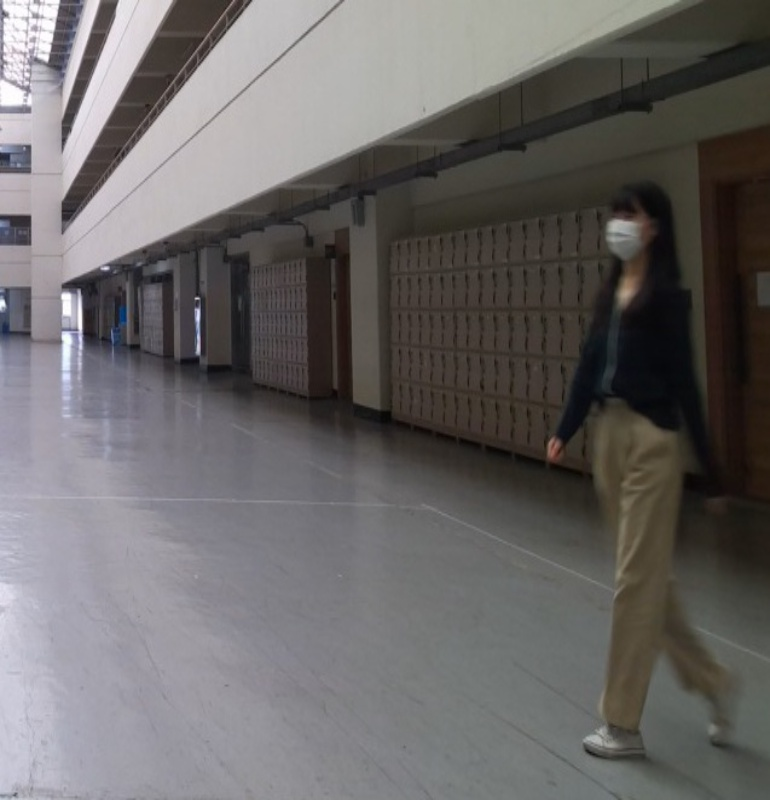person: (545, 176, 749, 762)
